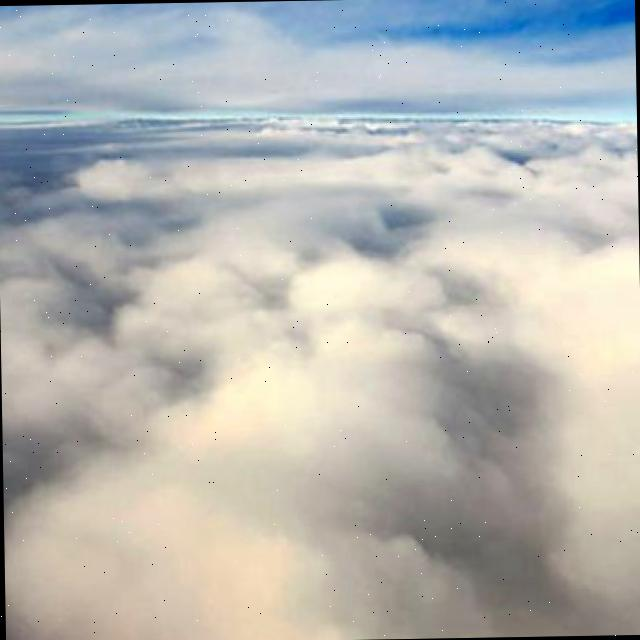As: (1, 114, 640, 640)
